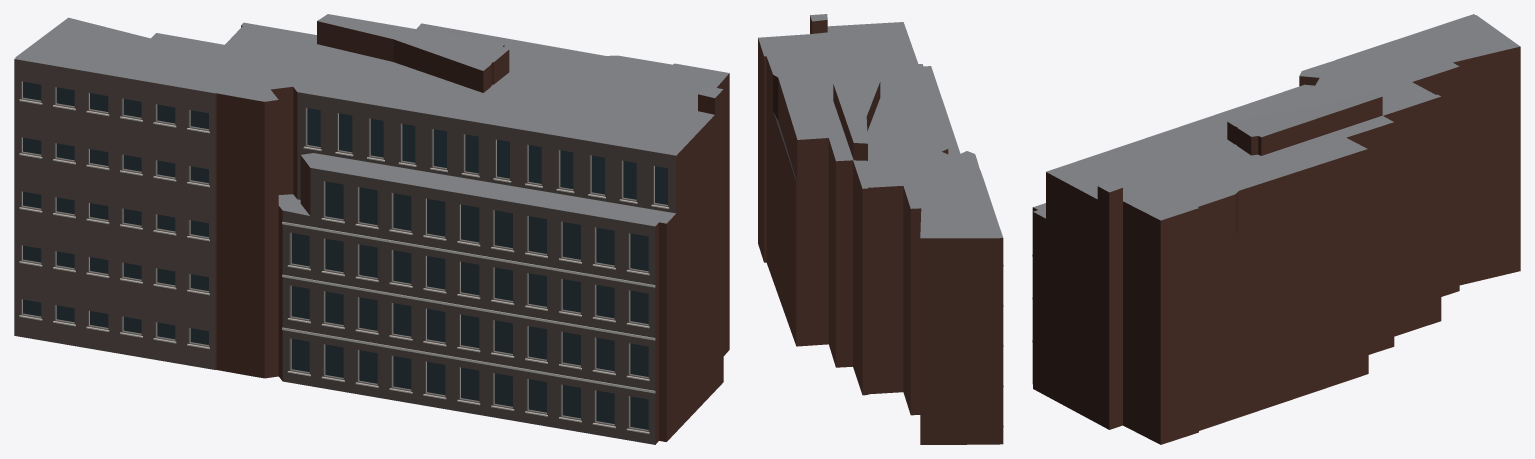
Rendered from recipe-large-politie-lijnbaansgracht.glb.
The picture shows the model from 3 angles, left to right: view 1: azimuth 30°, elevation 25°; view 2: azimuth 150°, elevation 25°; view 3: azimuth 270°, elevation 25°; orthographic projection. The views are drawn at different scales.
Parts seen in each view (by area): view 1: politie-lijnbaansgracht; view 2: politie-lijnbaansgracht; view 3: politie-lijnbaansgracht.
Boxes of the visible parts, x1,y1,x2,y2 form: politie-lijnbaansgracht: (14,14,729,444); politie-lijnbaansgracht: (758,14,1003,444); politie-lijnbaansgracht: (1032,14,1520,444).
Size of the model in its own units: 39.2 by 21.55 by 39.14.
